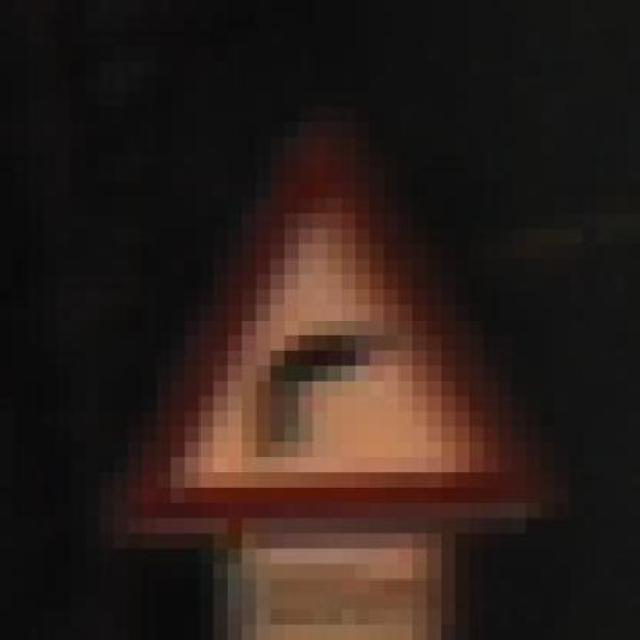Dangerous Rright Curve Ahead: (99, 106, 555, 534)
